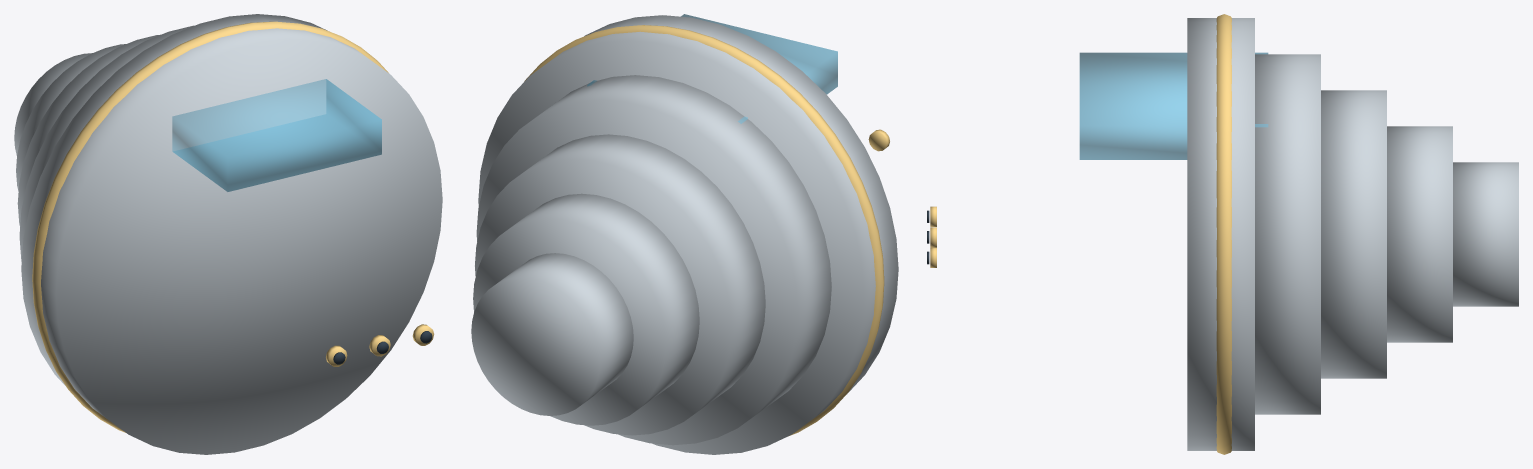
File: 17_L90_Aurora1ForwardAvionicsNose.fbx
The picture shows the model from 3 angles, left to right: view 1: azimuth 30°, elevation 25°; view 2: azimuth 150°, elevation 25°; view 3: azimuth 270°, elevation 25°; orthographic projection. The views are drawn at different scales.
Visible parts, largest first — view 1: L90_Aurora1ForwardAvionicsNos_Part_0000, L90_Aurora1ForwardAvionicsNos_Part_0002, L90_Aurora1ForwardAvionicsNos_Part_0001; view 2: L90_Aurora1ForwardAvionicsNos_Part_0000, L90_Aurora1ForwardAvionicsNos_Part_0001, L90_Aurora1ForwardAvionicsNos_Part_0002; view 3: L90_Aurora1ForwardAvionicsNos_Part_0000, L90_Aurora1ForwardAvionicsNos_Part_0002, L90_Aurora1ForwardAvionicsNos_Part_0001.
Part boxes in pixels (left/top/right/bottom): L90_Aurora1ForwardAvionicsNos_Part_0000: left=14, top=14, right=442, bottom=454; L90_Aurora1ForwardAvionicsNos_Part_0002: left=172, top=79, right=381, bottom=191; L90_Aurora1ForwardAvionicsNos_Part_0001: left=32, top=21, right=388, bottom=432; L90_Aurora1ForwardAvionicsNos_Part_0000: left=471, top=15, right=898, bottom=454; L90_Aurora1ForwardAvionicsNos_Part_0001: left=524, top=25, right=884, bottom=436; L90_Aurora1ForwardAvionicsNos_Part_0002: left=587, top=14, right=837, bottom=123; L90_Aurora1ForwardAvionicsNos_Part_0000: left=1187, top=18, right=1518, bottom=450; L90_Aurora1ForwardAvionicsNos_Part_0002: left=1079, top=52, right=1268, bottom=159; L90_Aurora1ForwardAvionicsNos_Part_0001: left=1216, top=14, right=1231, bottom=454.
Size of the model in its own units: 2.81 by 2.81 by 3.77.
